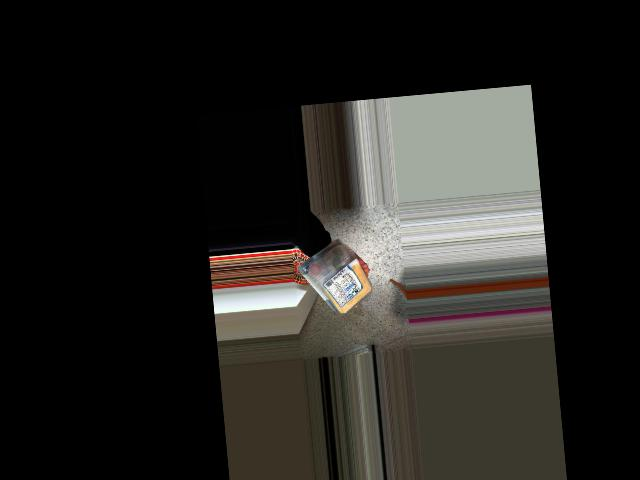cheese: (324, 248, 367, 316)
